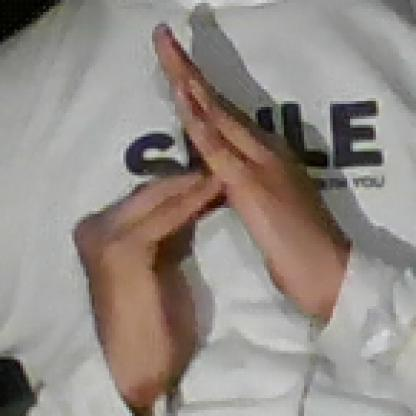Z: (76, 20, 310, 366)
